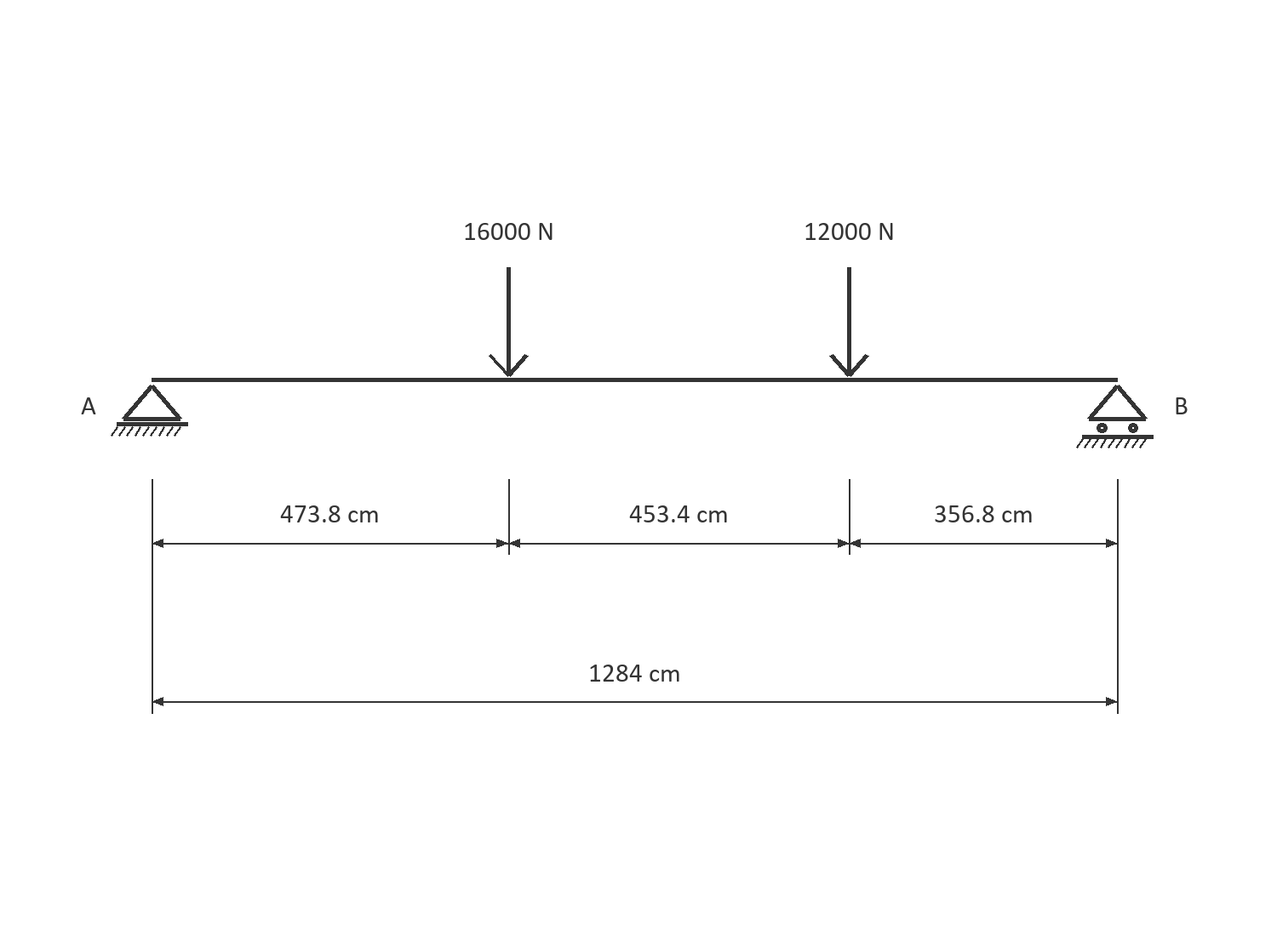pin_support: (111, 385, 188, 437)
point_load: (489, 267, 529, 377), (829, 267, 869, 377)
roller_support: (1076, 385, 1154, 448)
